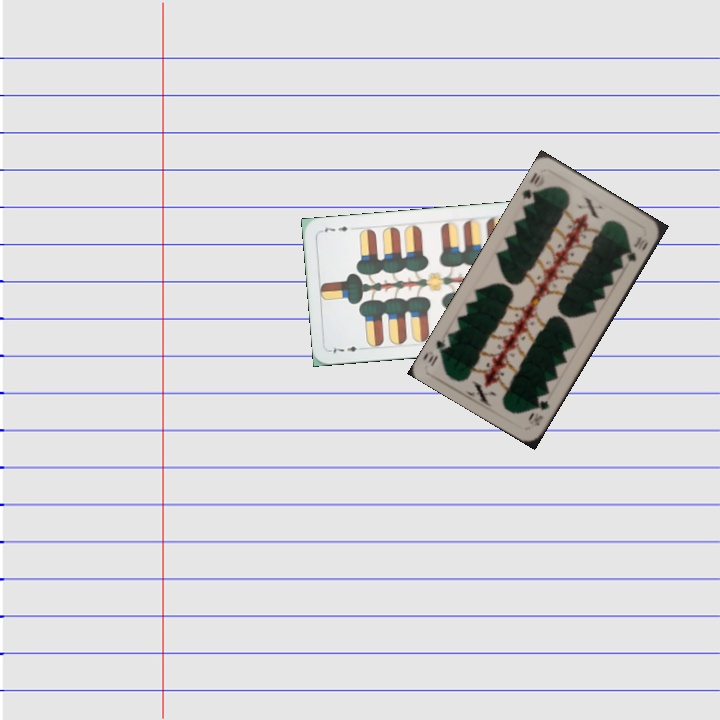E7: (327, 342, 367, 356)
G10: (518, 169, 545, 207), (528, 396, 552, 430)
